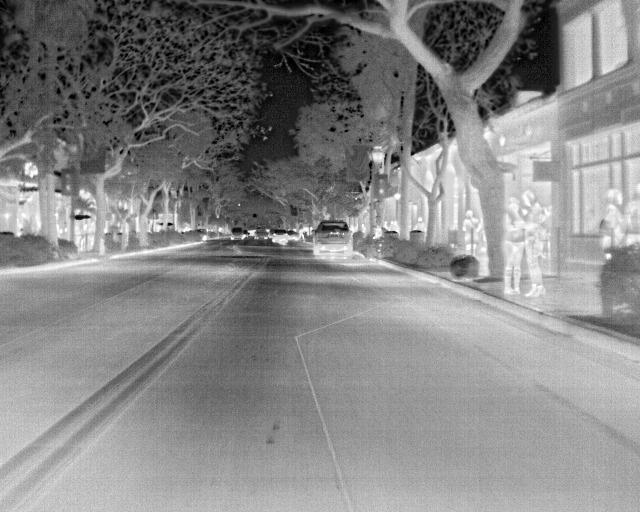bicycle: (308, 219, 356, 258), (270, 227, 288, 246), (229, 224, 246, 243), (252, 226, 270, 242)
empty: (521, 189, 549, 299), (499, 197, 526, 294), (600, 187, 628, 258), (459, 205, 479, 255)
